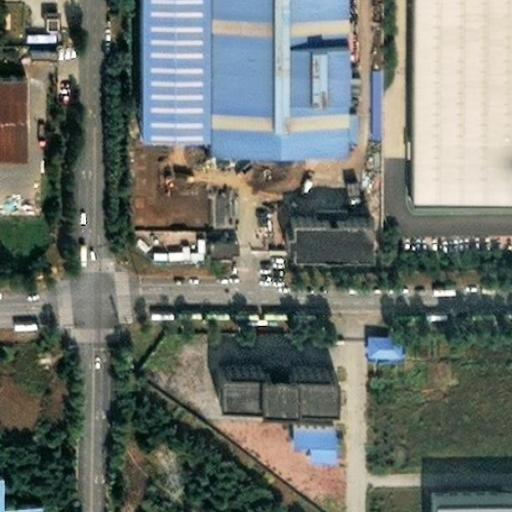building: (186, 0, 346, 142), (396, 0, 512, 195), (212, 355, 324, 388), (419, 479, 512, 512), (282, 203, 359, 237), (0, 72, 27, 163), (280, 414, 320, 448), (355, 322, 391, 346), (360, 59, 371, 125), (204, 236, 237, 257), (5, 498, 46, 512), (12, 312, 40, 329), (17, 20, 45, 31)
